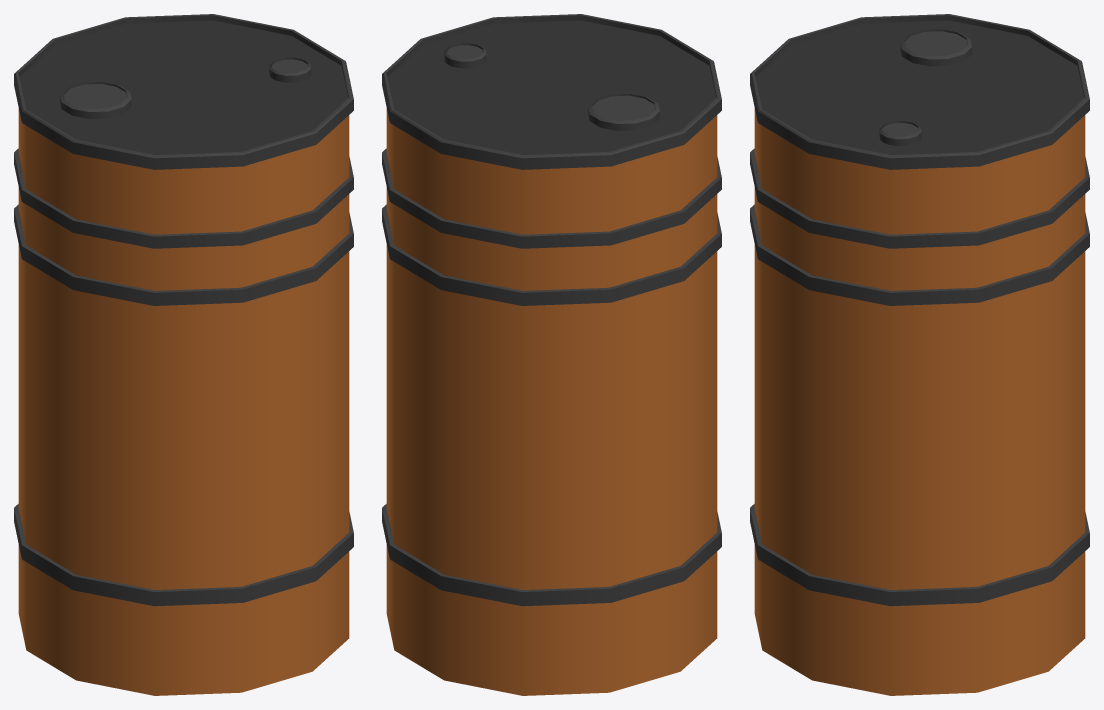
Rendered from props_26.glb.
3 renders of one model, left to right at view 1: azimuth 30°, elevation 25°; view 2: azimuth 150°, elevation 25°; view 3: azimuth 270°, elevation 25°, orthographic.
Parts seen in each view (by area): view 1: props_26; view 2: props_26; view 3: props_26.
Part boxes in pixels (bbox=[...]): props_26: bbox=[14, 14, 353, 695]; props_26: bbox=[382, 14, 721, 695]; props_26: bbox=[750, 14, 1089, 695].
Size of the model in its own units: 0.8218 by 1.45 by 0.8218.
Materials: 1 (1 with a texture image).
